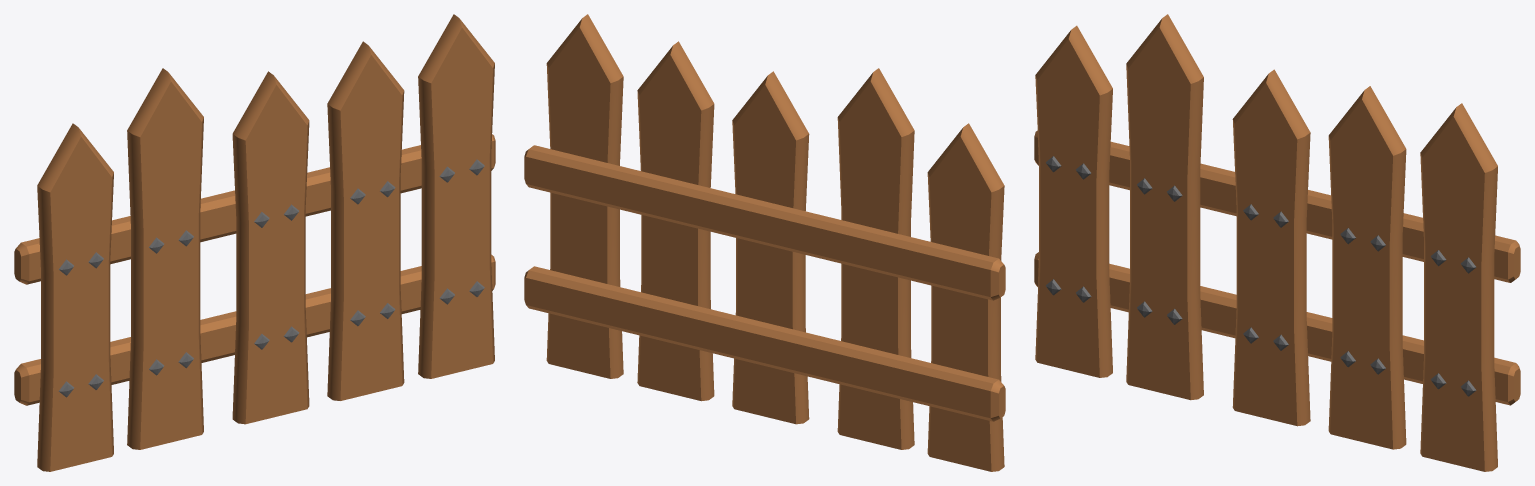
The model's file is fence.obj.
The picture shows the model from 3 angles, left to right: view 1: azimuth 30°, elevation 25°; view 2: azimuth 150°, elevation 25°; view 3: azimuth 330°, elevation 25°; orthographic projection.
Visible parts, largest first — view 1: Fence_1; view 2: Fence_1; view 3: Fence_1.
Part boxes in pixels (box(x1,y1,x2,y2)): Fence_1: box(14, 14, 495, 471); Fence_1: box(524, 14, 1005, 471); Fence_1: box(1034, 14, 1520, 471).
Size of the model in its own units: 0.4958 by 0.3678 by 0.0435.
